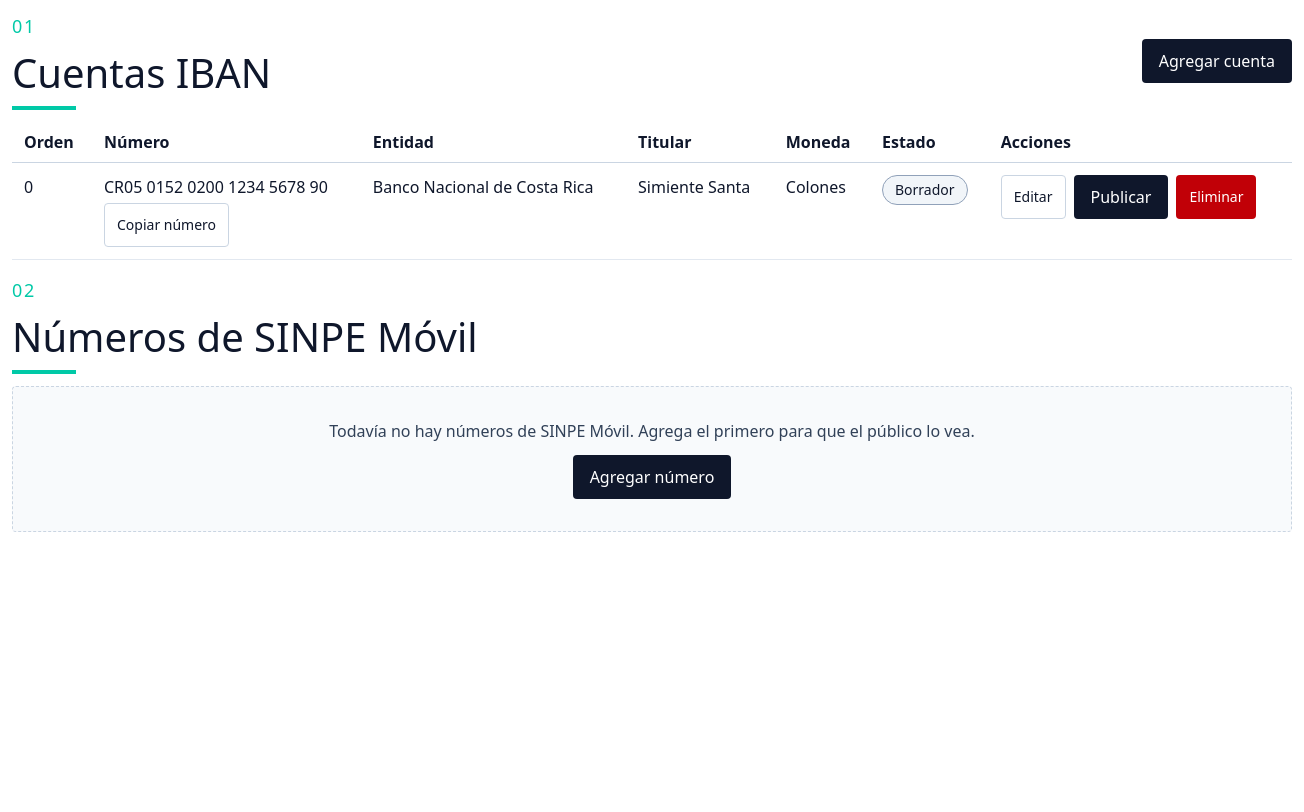
Test: DonacionesListsByType (ux.md §4.3/§5.b, Q1/Q2) › publica directamente con su aviso (US3)
Click the button "Publicar": [1121, 197] box [1074,175,1168,219]
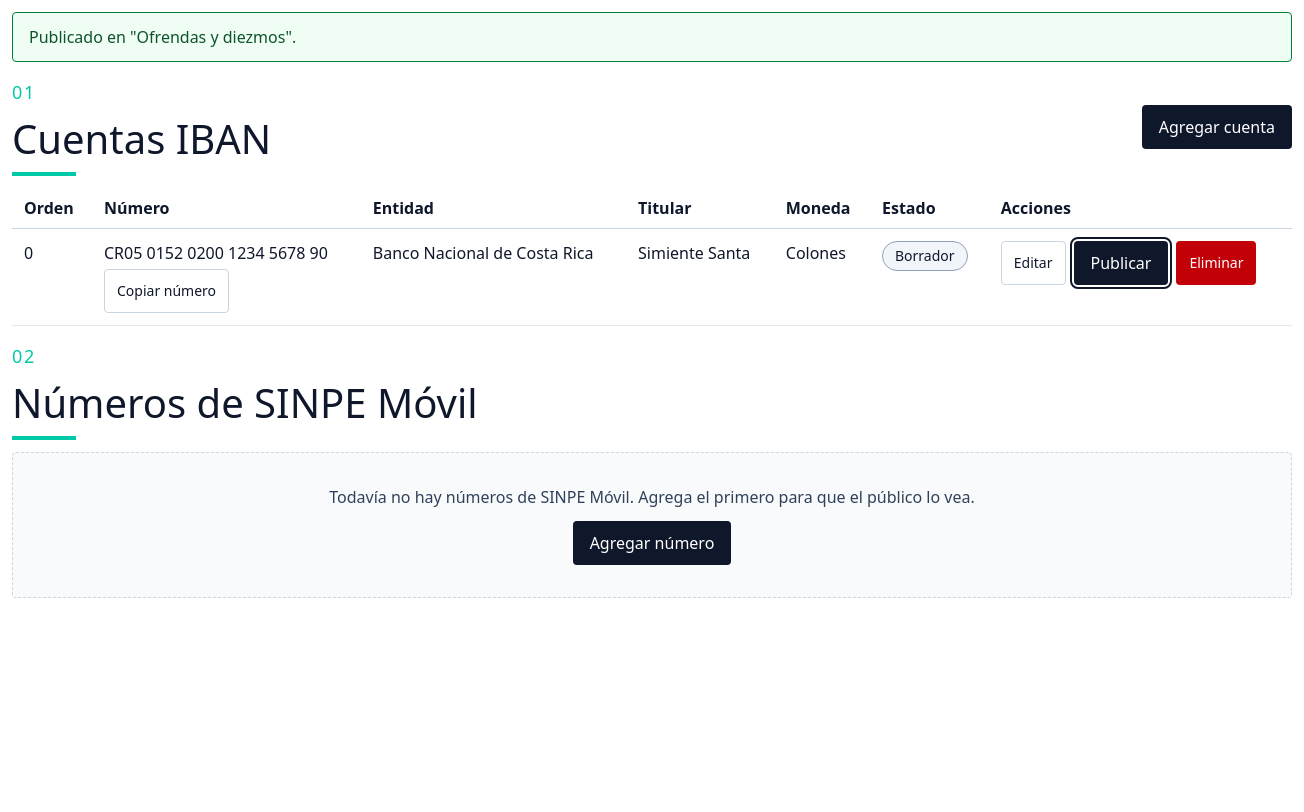
Result: the text "Publicado en \"Ofrendas y diezmos\"." is shown at [12,12,1292,62]
